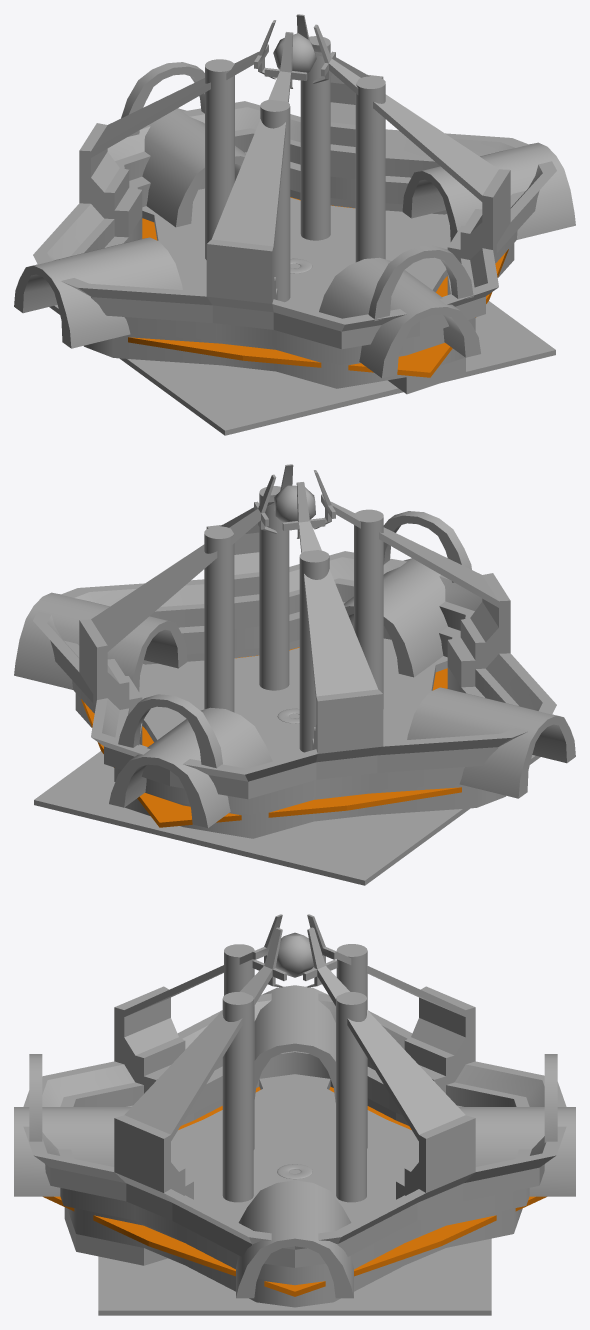
File: Arena2Test.fbx
The picture shows the model from 3 angles, top to bottom: view 1: azimuth 30°, elevation 25°; view 2: azimuth 150°, elevation 25°; view 3: azimuth 270°, elevation 25°; orthographic projection. The views are drawn at different scales.
Parts seen in each view (by area): view 1: polySurface21; view 2: polySurface21; view 3: polySurface21.
Part boxes in pixels (left/top/right/bottom): polySurface21: left=14, top=14, right=575, bottom=435; polySurface21: left=14, top=464, right=575, bottom=885; polySurface21: left=14, top=914, right=575, bottom=1315.
Bounding box in the file's own units: 440 × 251 × 412.
